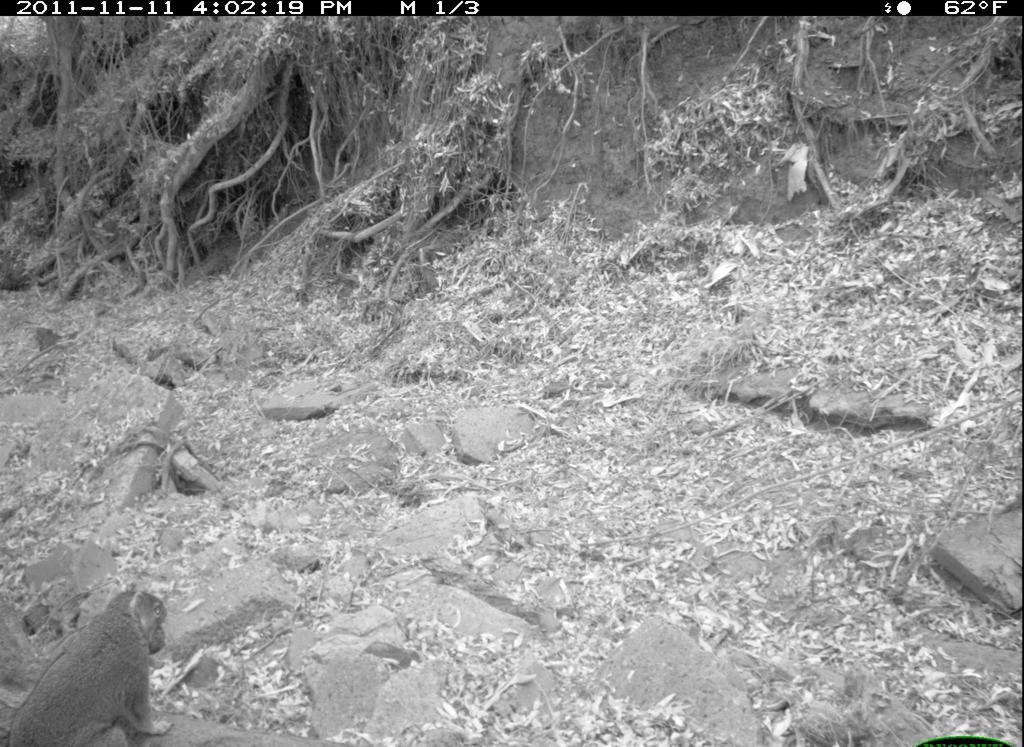squirrel: (3, 559, 217, 747)
